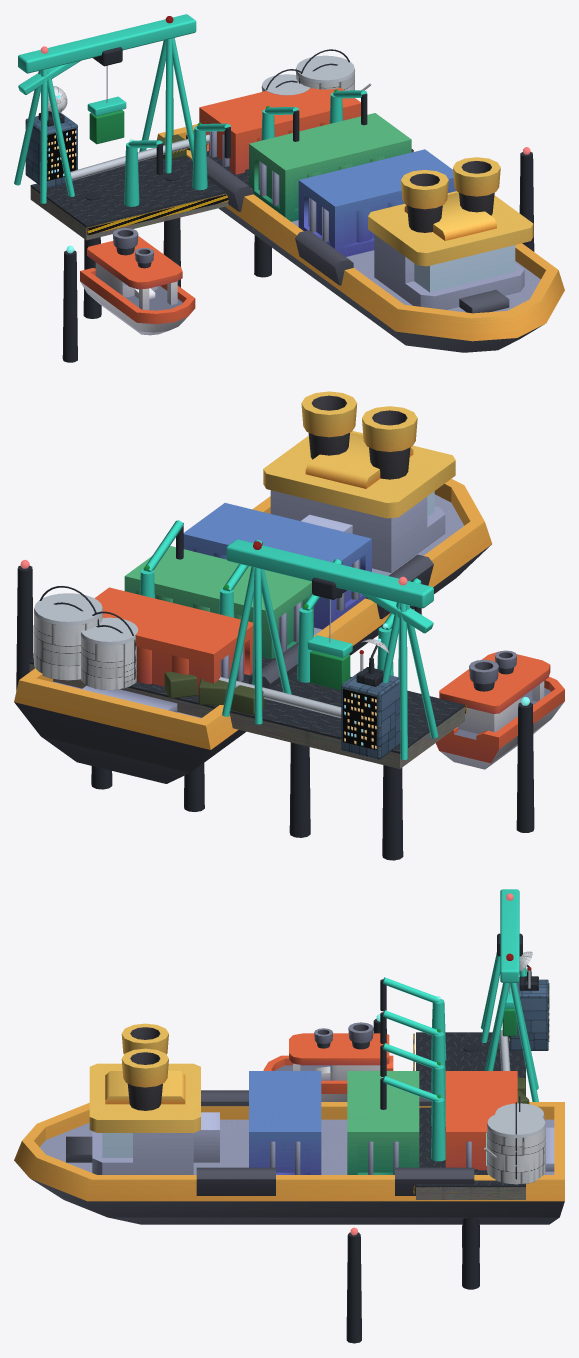
Rendered from dock-T5.glb.
3 renders of one model, top to bottom at view 1: azimuth 30°, elevation 25°; view 2: azimuth 150°, elevation 25°; view 3: azimuth 270°, elevation 25°, orthographic. The views are drawn at different scales.
Visible parts, largest first — view 1: ship-cargo-a, cargo-b, cargo-a, boat-tug-a, object 6, cargo-c, object 38, anim:trolley, object 65, object 5, object 44, object 57 (+18 smaller); view 2: ship-cargo-a, boat-tug-a, cargo-c, cargo-a, cargo-b, object 6, object 38, object 5, object 43, anim:trolley, object 57, object 50 (+19 smaller); view 3: ship-cargo-a, cargo-a, cargo-b, cargo-c, boat-tug-a, object 6, object 43, object 57, object 38, object 67, object 5, object 44 (+6 smaller).
Part boxes in pixels (<box>): ship-cargo-a: <box>157,124,564,352</box>; cargo-b: <box>249,113,411,221</box>; cargo-a: <box>298,149,456,256</box>; boat-tug-a: <box>80,228,195,335</box>; object 6: <box>30,151,250,227</box>; cargo-c: <box>199,88,360,174</box>; object 38: <box>18,14,196,73</box>; anim:trolley: <box>87,47,126,144</box>; object 65: <box>62,250,77,362</box>; object 5: <box>30,187,229,240</box>; object 44: <box>295,55,354,83</box>; object 57: <box>25,113,77,188</box>; ship-cargo-a: <box>14,391,492,783</box>; boat-tug-a: <box>435,650,564,769</box>; cargo-c: <box>94,587,252,694</box>; cargo-a: <box>183,503,371,629</box>; cargo-b: <box>124,546,313,659</box>; object 6: <box>29,657,464,753</box>; object 38: <box>226,539,433,608</box>; object 5: <box>29,663,464,768</box>; object 43: <box>34,612,102,680</box>; anim:trolley: <box>307,577,352,690</box>; object 57: <box>341,669,400,759</box>; object 50: <box>81,636,136,689</box>; ship-cargo-a: <box>14,1023,564,1224</box>; cargo-a: <box>249,1071,321,1174</box>; cargo-b: <box>347,1071,419,1174</box>; cargo-c: <box>445,1071,517,1170</box>; boat-tug-a: <box>263,1022,393,1101</box>; object 6: <box>416,1032,525,1187</box>; object 43: <box>487,1127,545,1184</box>; object 57: <box>510,979,548,1050</box>; object 38: <box>500,889,519,982</box>; object 67: <box>346,1232,361,1343</box>; object 5: <box>416,1187,525,1199</box>; object 44: <box>487,1110,545,1137</box>.
Bounding box in the file's own units: 8.04 × 4.39 × 8.5.
24 materials, 9 textured.
